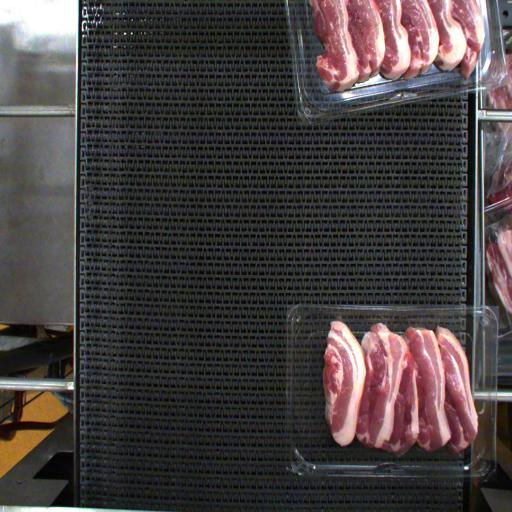packaging-error: (334, 313, 345, 323)
